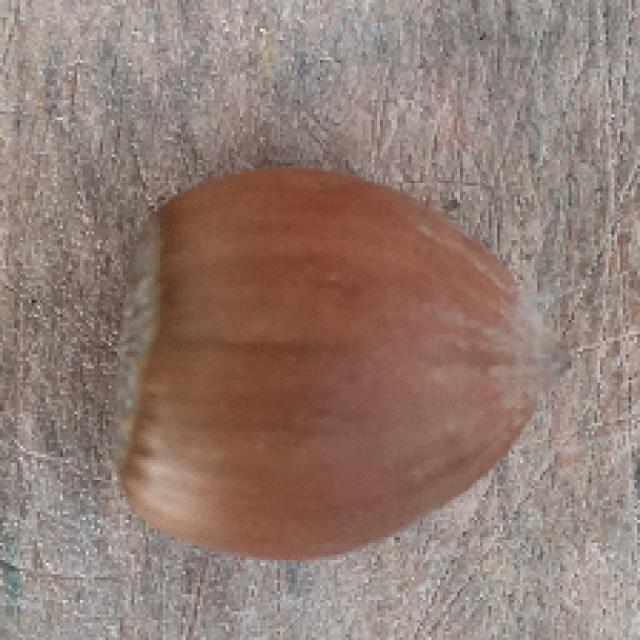qualityHazelnut: (94, 152, 576, 566)
